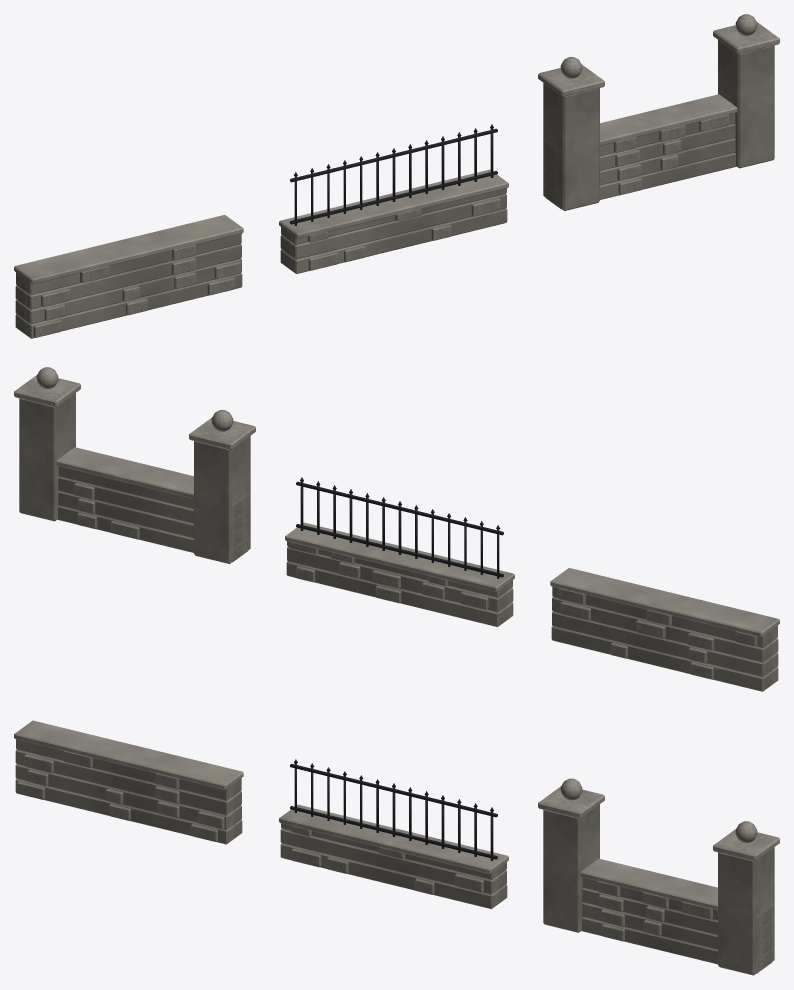
File: park_wall.glb
3 views of the same model, one above another, from view 1: azimuth 30°, elevation 25°; view 2: azimuth 150°, elevation 25°; view 3: azimuth 330°, elevation 25° (orthographic).
Parts seen in each view (by area): view 1: park_wall_v3, park_wall_v1, park_wall_v2; view 2: park_wall_v3, park_wall_v1, park_wall_v2; view 3: park_wall_v3, park_wall_v1, park_wall_v2.
Part boxes in pixels (x1,y1,x2,y2): park_wall_v3: (538,14,779,210); park_wall_v1: (14,215,243,338); park_wall_v2: (279,124,508,273); park_wall_v3: (14,367,255,563); park_wall_v1: (550,568,779,691); park_wall_v2: (285,477,514,626); park_wall_v3: (538,778,779,975); park_wall_v1: (14,720,243,844); park_wall_v2: (279,759,508,908).
Size of the model in its own units: 14.06 by 2.56 by 0.82.
2 materials, 2 textured.
